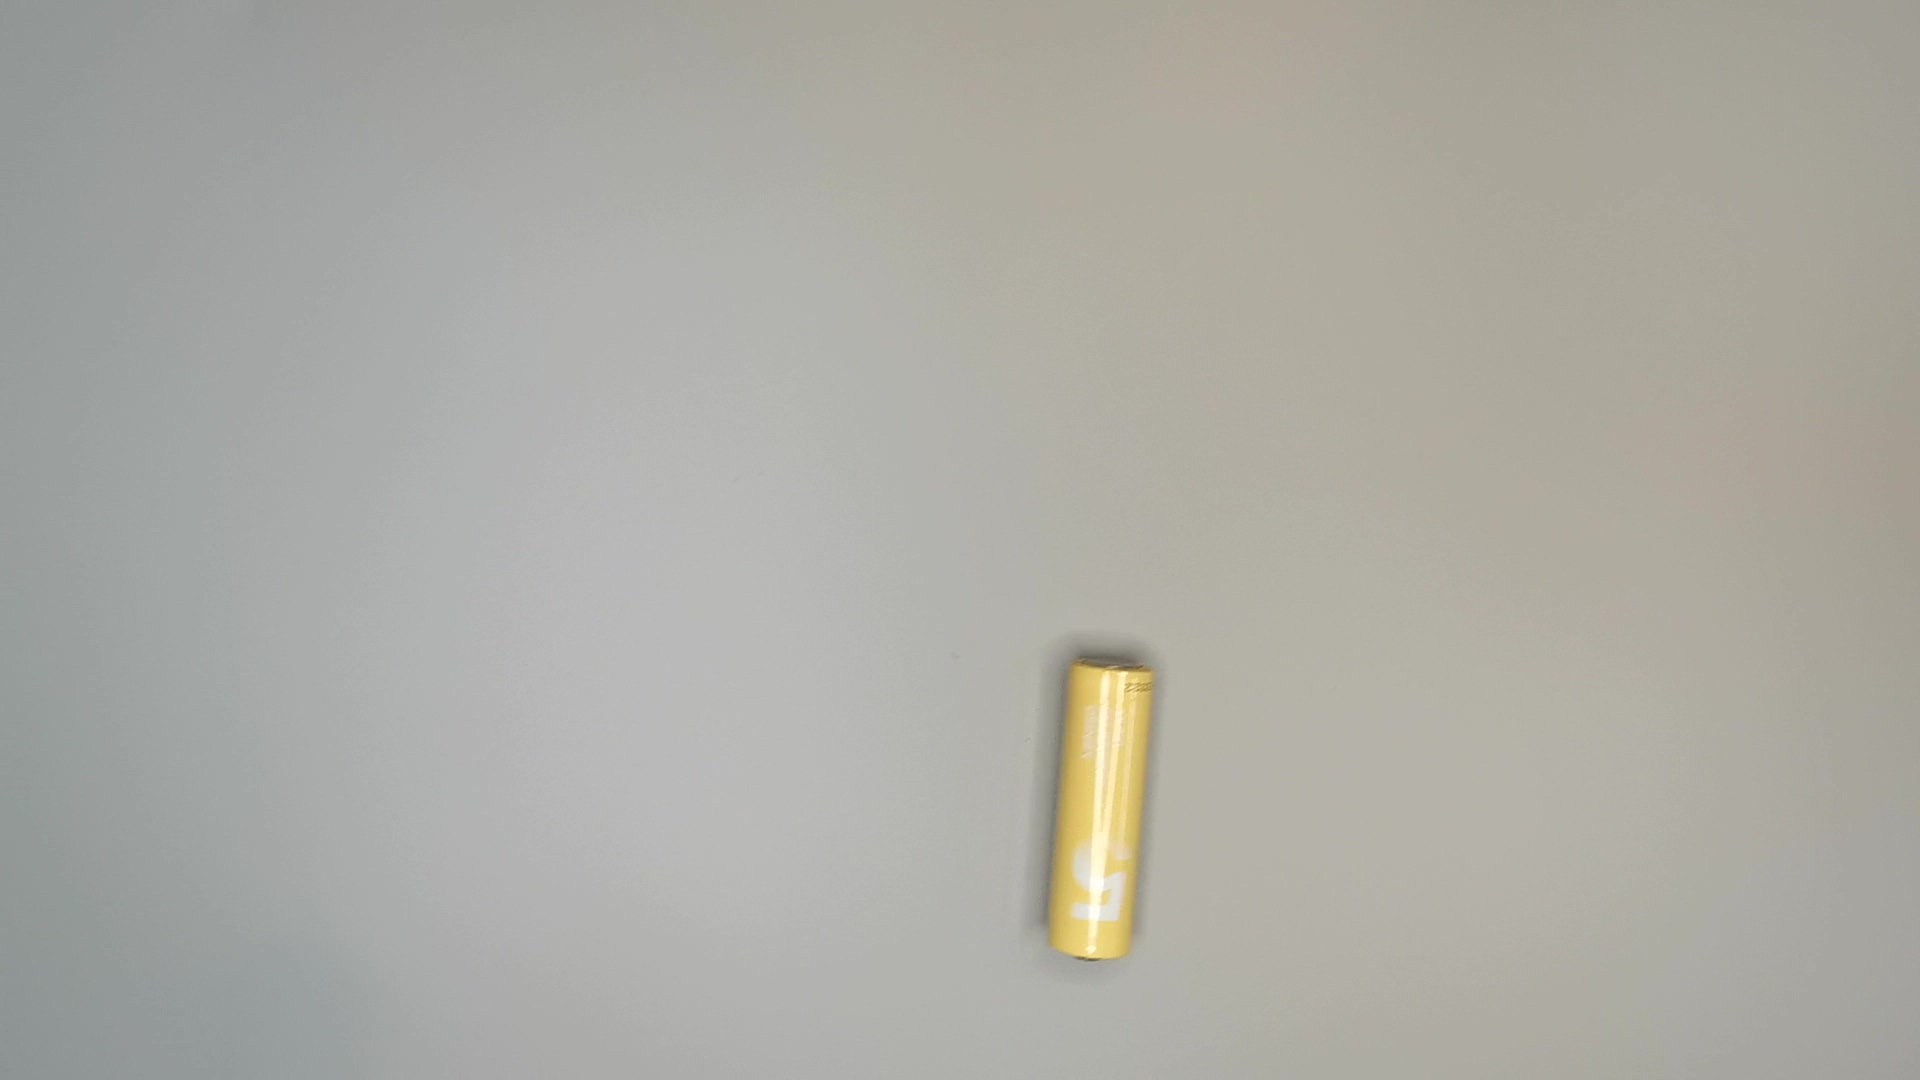battery: (1040, 649, 1156, 975)
